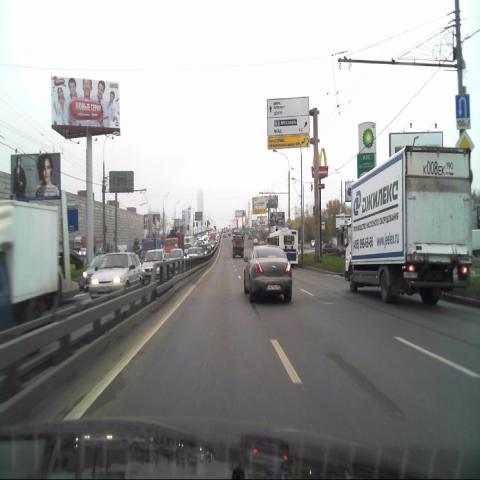6_3_1: (456, 94, 469, 118)
